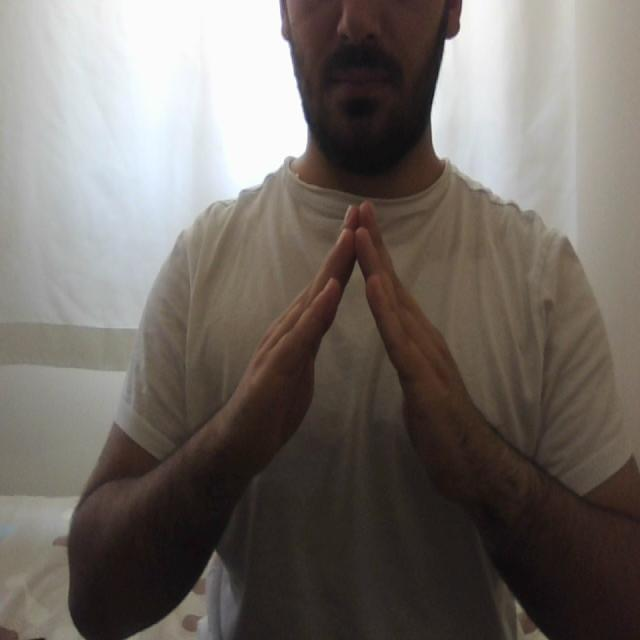Ev: (224, 189, 489, 487)
